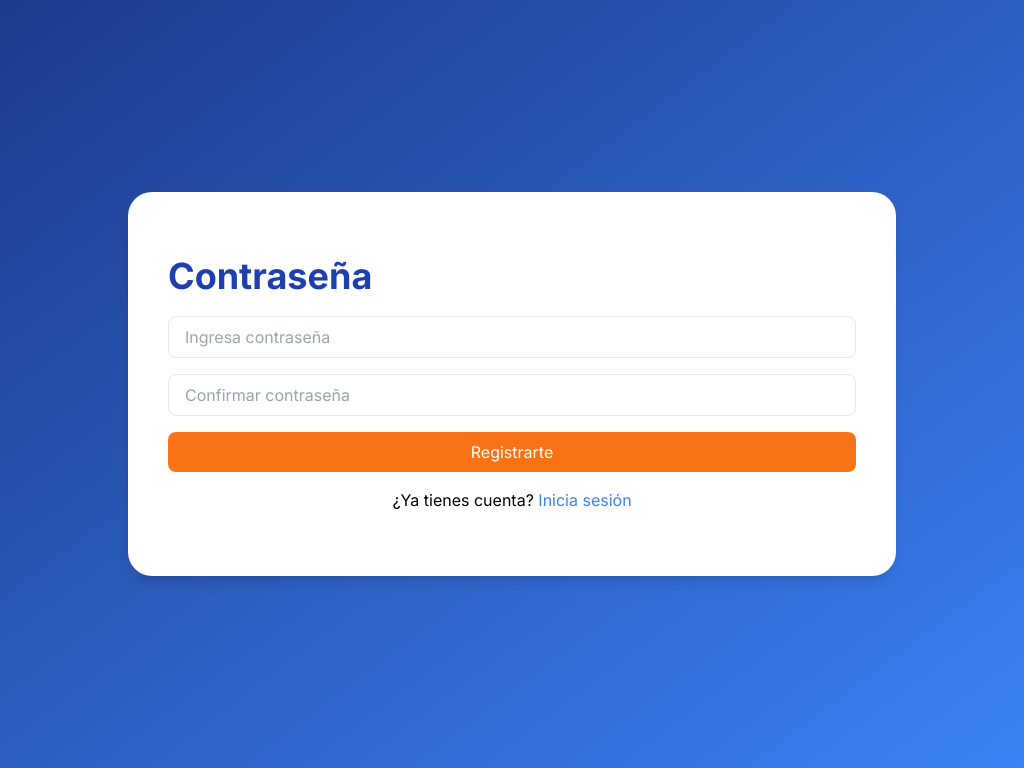
Test: Password.jsx › error si contraseña no cumple requisitos
The image size is (1024, 768).
Step 1. Type "123" into the password field with placeholder "Ingresa contraseña" → (512, 337), box top-left (168, 316), bottom-right (856, 358)
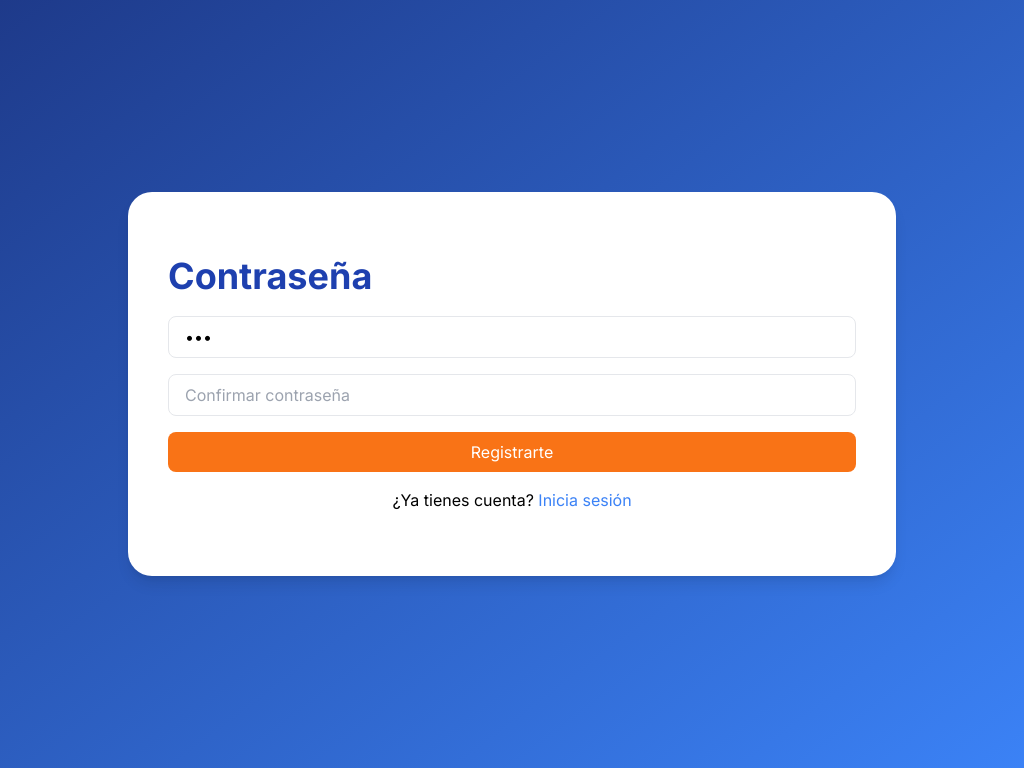
Step 2. Type "123" into the password field with placeholder "Confirmar contraseña" → (512, 395), box top-left (168, 374), bottom-right (856, 416)
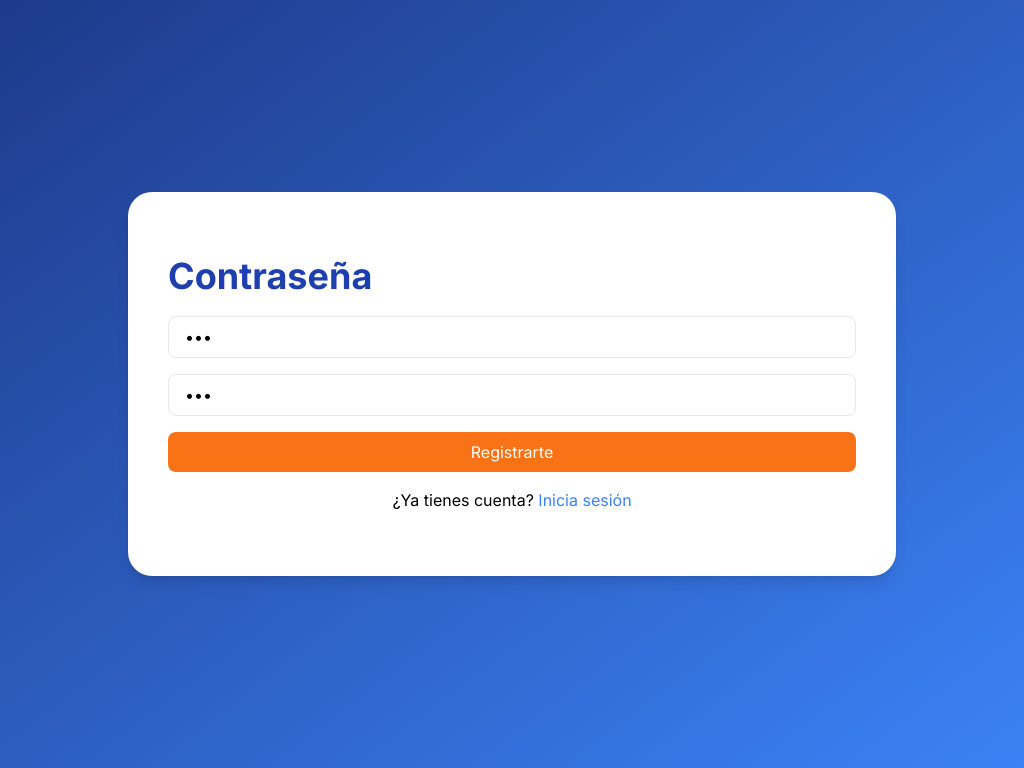
Step 3. Click the button "Registrarte" → (512, 452), box top-left (168, 432), bottom-right (856, 472)
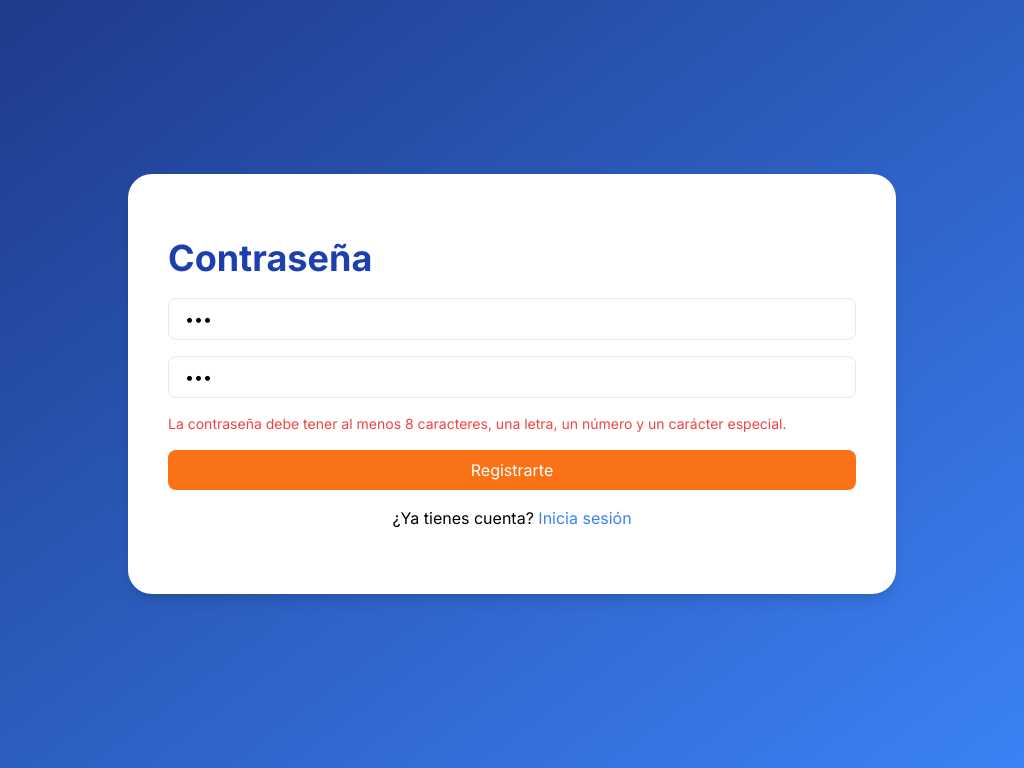
Expected: the text "La contraseña debe tener al menos 8 caracteres" is shown, top-left (168, 415), bottom-right (786, 432)
